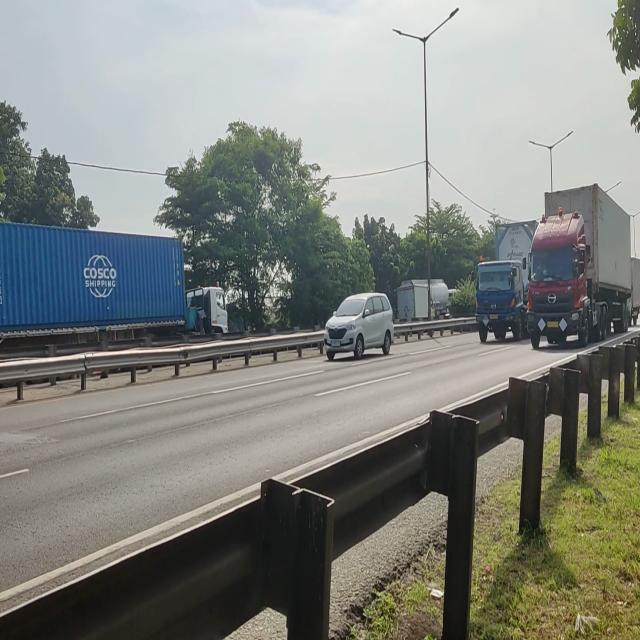Golongan I: (320, 281, 397, 364)
